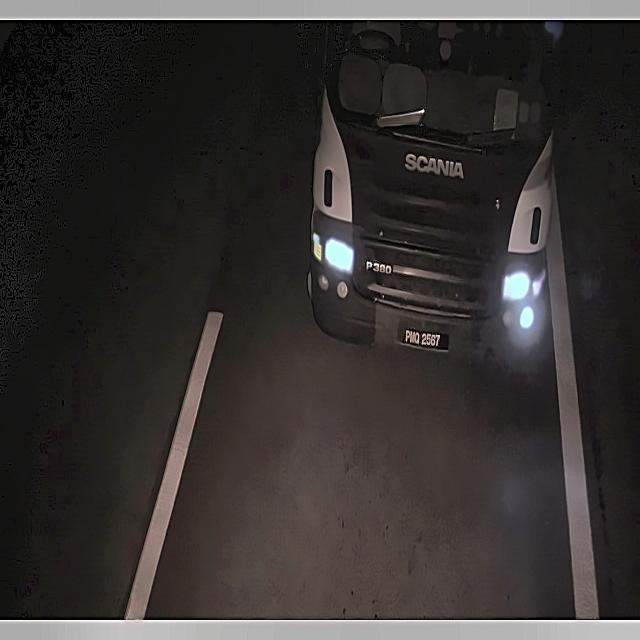car: (394, 322, 454, 353)
